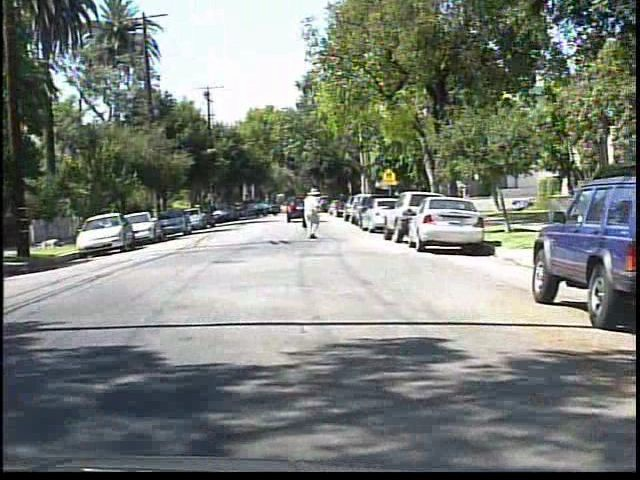person: (297, 187, 328, 242)
